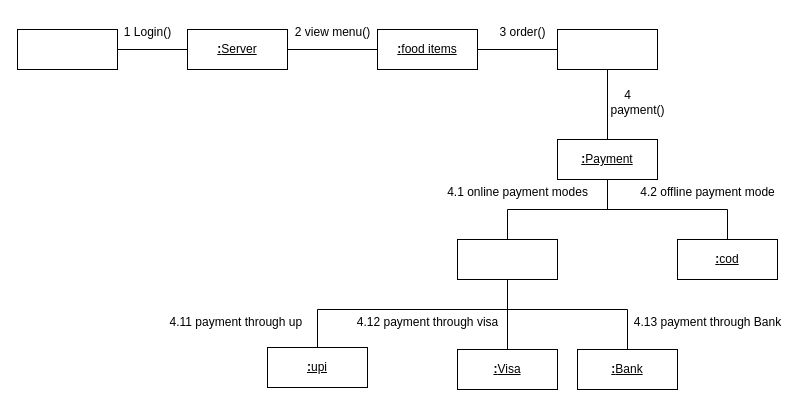
The diagram is 810 pixels wide and 407 high, and some of its shapes have lost their labels. Here are the shapes that lost their labels. From the top down, the centre of each, then its label:
At (67,49): ": customer".
At (607,49): ": order".
At (507,259): ":online".
